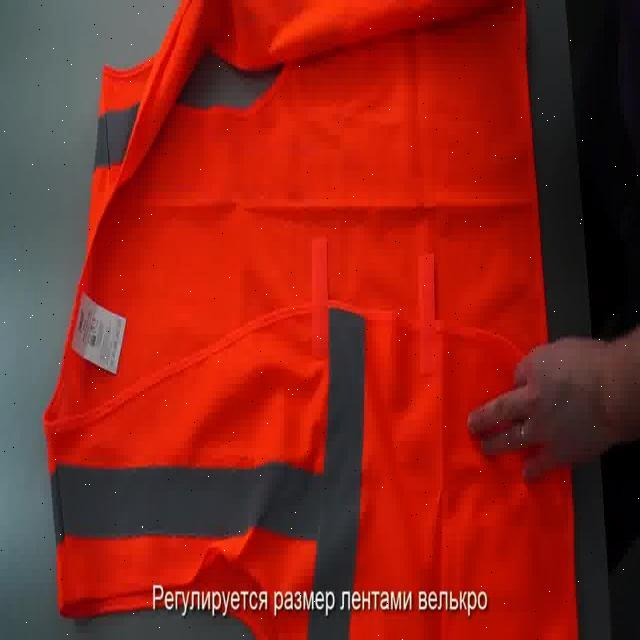Vest: (42, 0, 578, 640)
